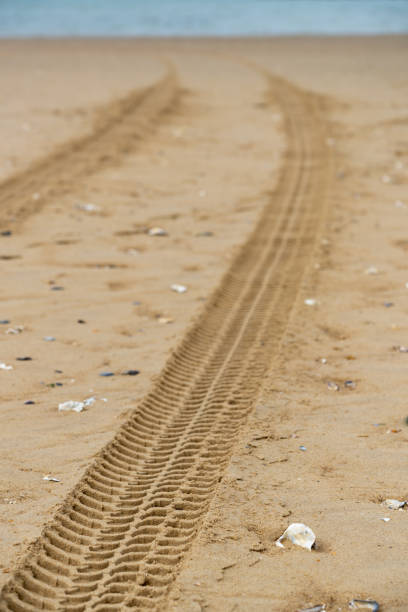vehicle_track: (0, 76, 330, 611), (0, 66, 180, 226)
